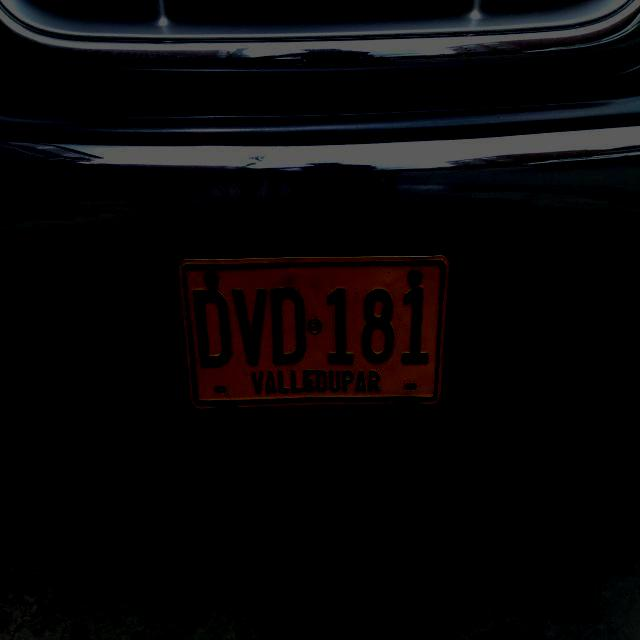placa: (175, 251, 451, 414)
